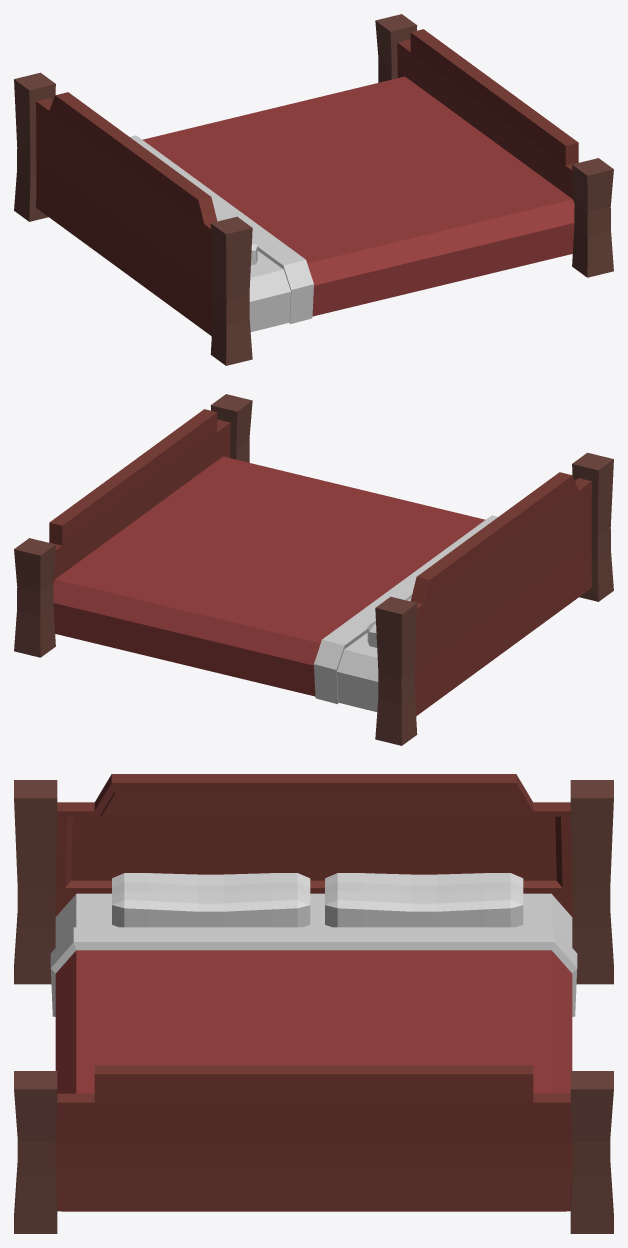
The model's file is BedKing.glb.
3 views of the same model, one above another, from view 1: azimuth 30°, elevation 25°; view 2: azimuth 150°, elevation 25°; view 3: azimuth 270°, elevation 25° (orthographic). The views are drawn at different scales.
Parts seen in each view (by area): view 1: BedKing; view 2: BedKing; view 3: BedKing.
Part boxes in pixels (box(x1,y1,x2,y2)): BedKing: box(14, 14, 613, 365); BedKing: box(14, 394, 613, 745); BedKing: box(14, 774, 613, 1233).
Size of the model in its own units: 1.43 by 0.4898 by 1.35.
